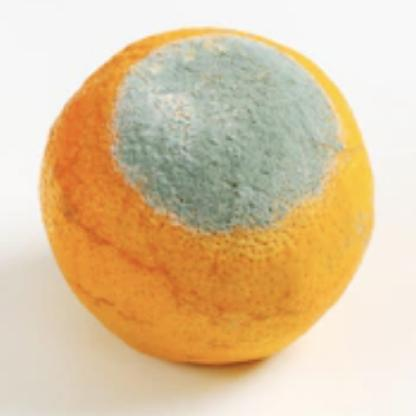rotten: (40, 27, 376, 370)
